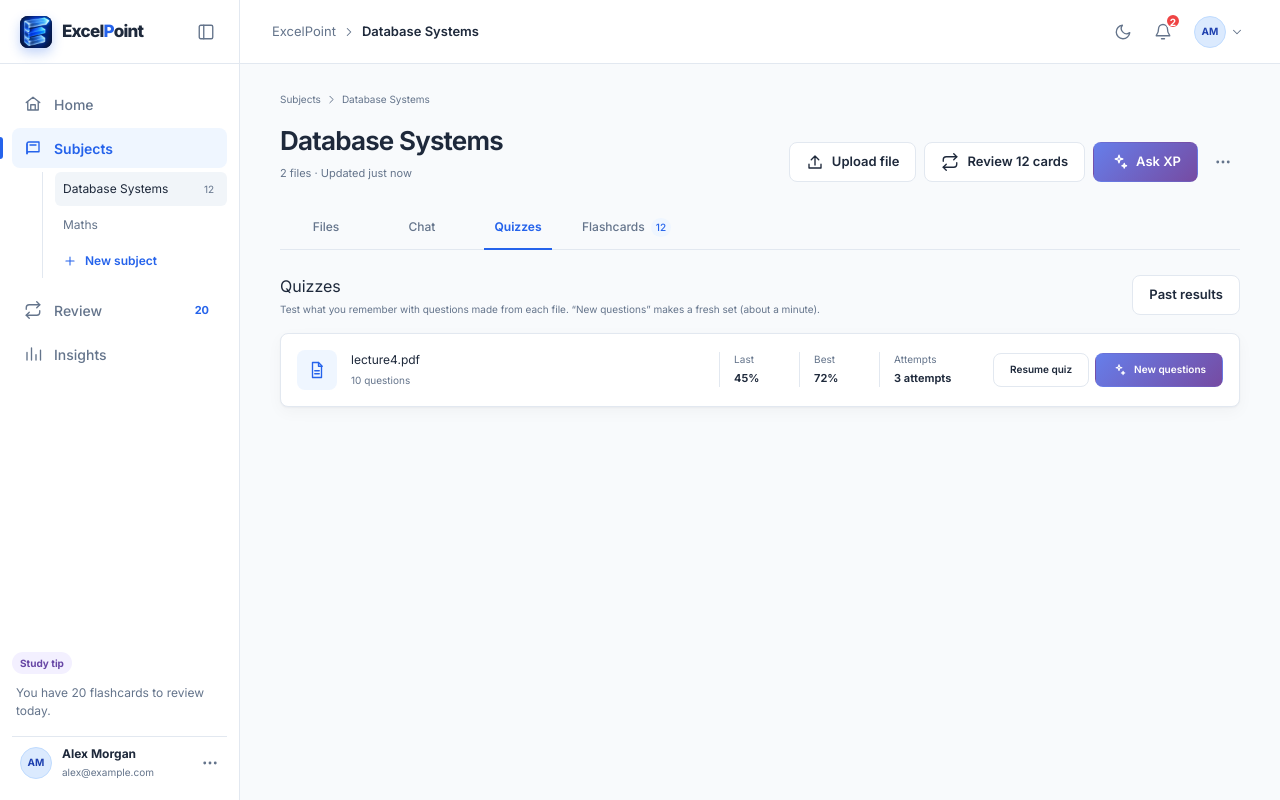
Subject workspace › shows quizzes with this user’s scores and flashcards with due dates
expect the text "3 attempts" is shown: met, box x1=894 y1=370 x2=951 y2=387
Click the tab "Flashcards 12" at (627, 227), box x1=568 y1=206 x2=685 y2=248
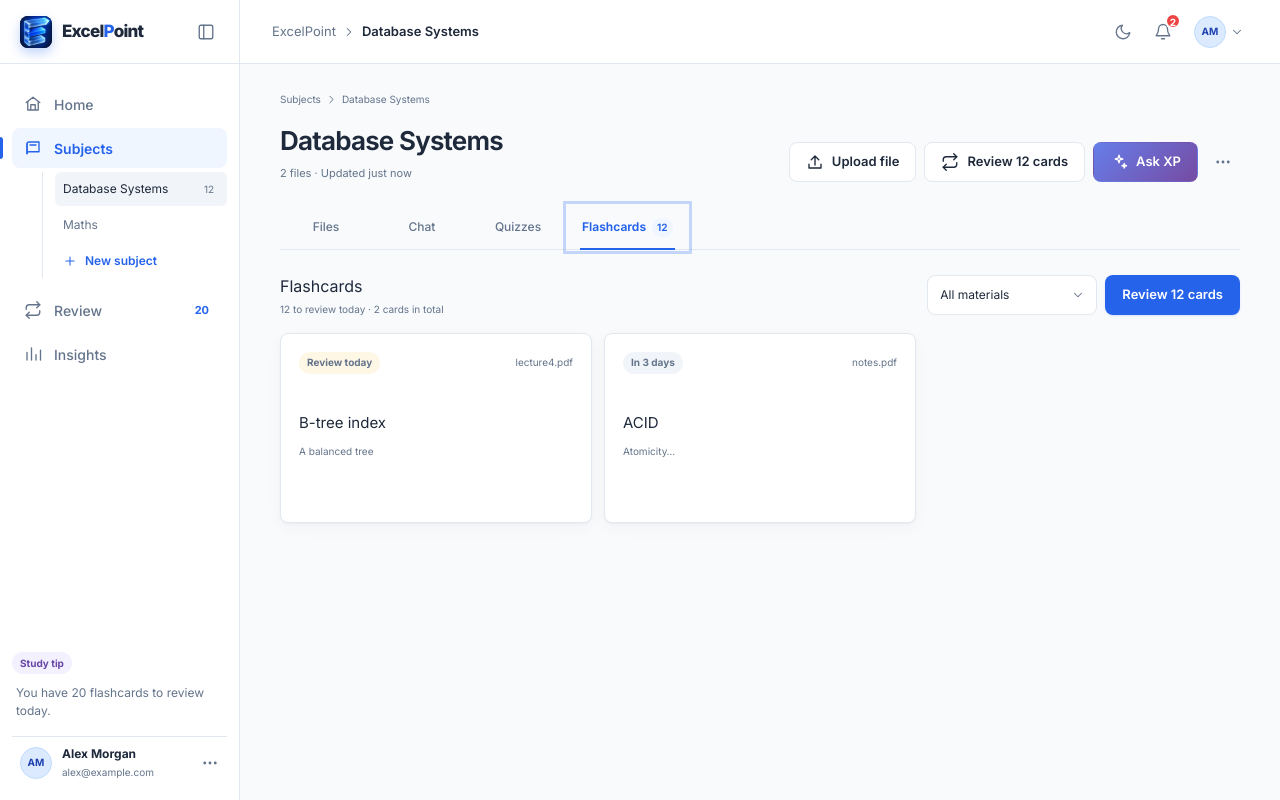
expect the heading "B-tree index" is shown: met, box x1=299 y1=412 x2=386 y2=432
expect the text "Review today" is shown: met, box x1=299 y1=352 x2=380 y2=374
expect the text "In 3 days" is shown: met, box x1=623 y1=352 x2=683 y2=374
Select "notes.pdf" in the dropdown named "Filter by material" at (1012, 295), box x1=927 y1=275 x2=1097 y2=315
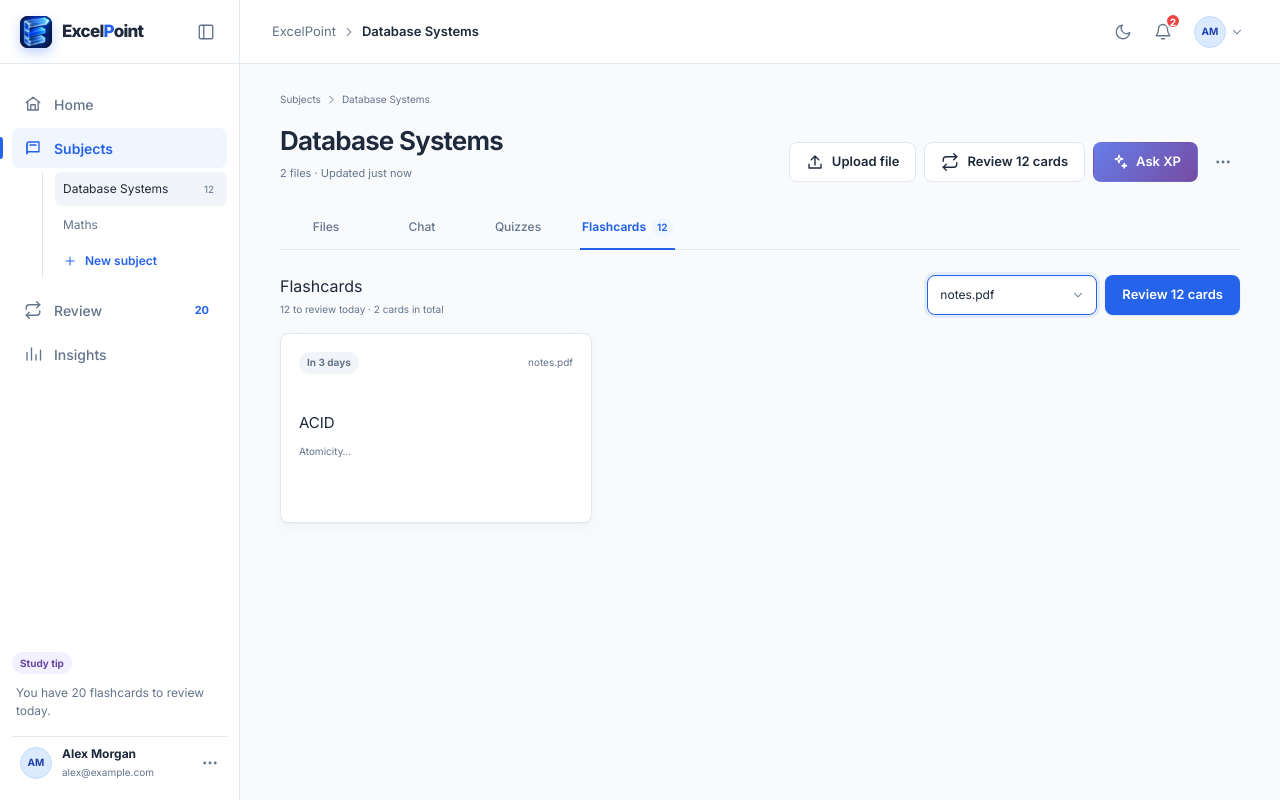
expect the heading "B-tree index" is gone: met
